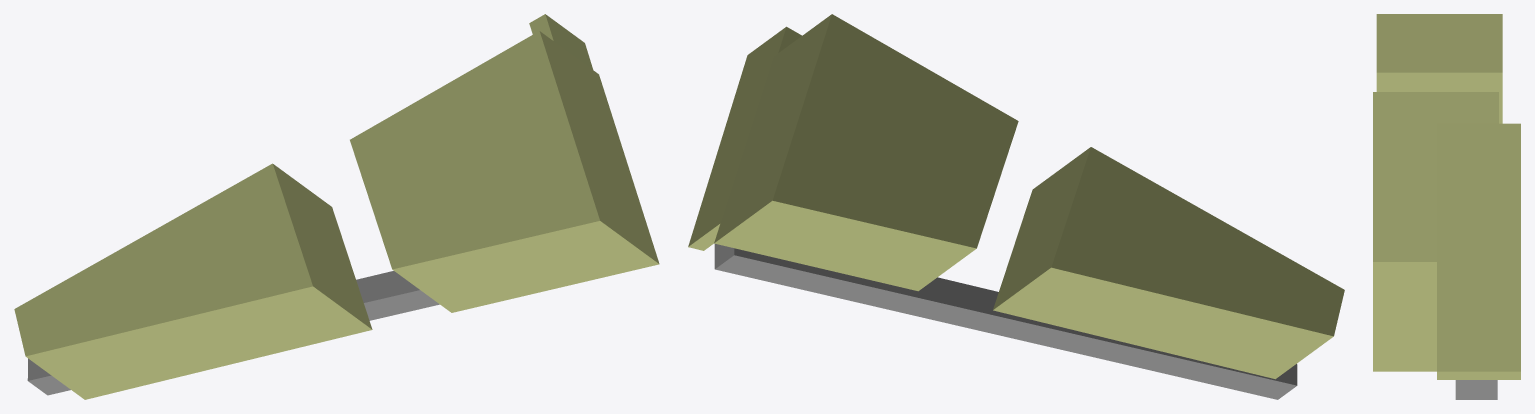
3 renders of one model, left to right at view 1: azimuth 30°, elevation 25°; view 2: azimuth 150°, elevation 25°; view 3: azimuth 270°, elevation 25°, orthographic. The views are drawn at different scales.
Parts seen in each view (by area): view 1: 0_2_0_1_1_1_2_3_2; view 2: 0_2_0_1_1_1_2_3_2; view 3: 0_2_0_1_1_1_2_3_2.
Boxes of the visible parts, box(x1,y1,x2,y2) form: 0_2_0_1_1_1_2_3_2: box(14, 14, 659, 399); 0_2_0_1_1_1_2_3_2: box(688, 14, 1344, 399); 0_2_0_1_1_1_2_3_2: box(1373, 14, 1520, 399).
Bounding box in the file's own units: 52.43 × 19.78 × 10.57.
